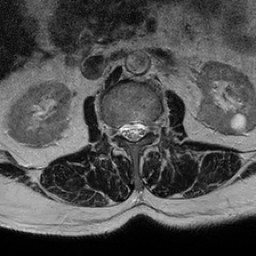CCS_normal: (130, 115, 138, 148)
LFS_normal: (147, 113, 155, 141)
LLS_normal: (138, 115, 147, 144)
RFS_normal: (112, 117, 121, 142)
RLS_normal: (121, 115, 130, 144)
